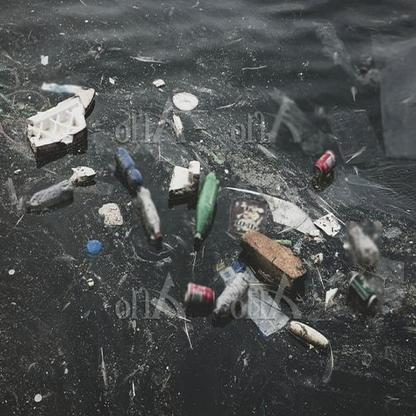can: (348, 272, 378, 308), (184, 282, 215, 306), (313, 150, 336, 177)
plastic bottle: (194, 171, 219, 239), (137, 187, 163, 239), (113, 147, 143, 189)
